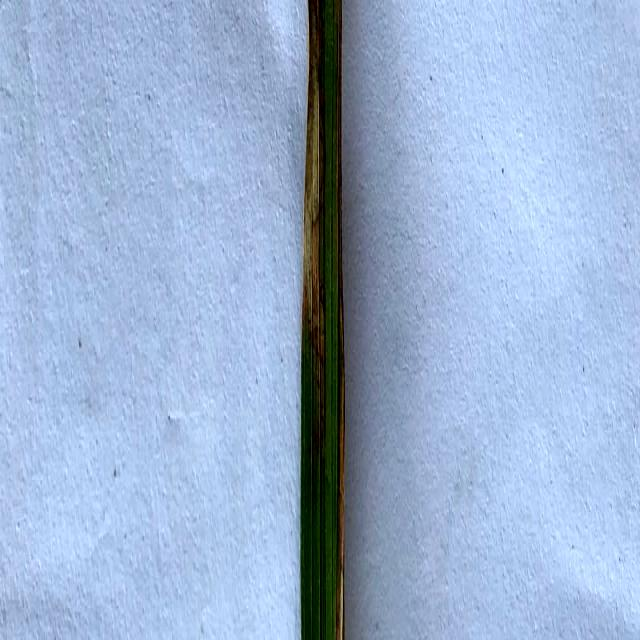BLB: (302, 0, 325, 450), (335, 0, 345, 640)
